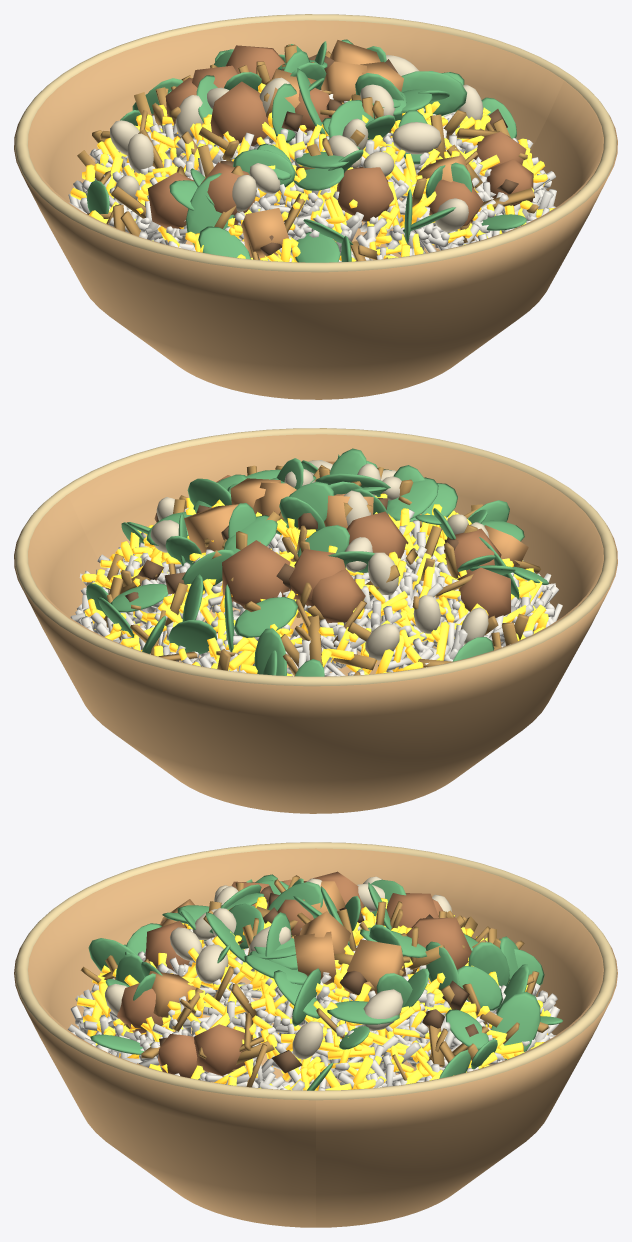
The model's file is Mughal_Times_Biryani.glb.
The picture shows the model from 3 angles, top to bottom: view 1: azimuth 30°, elevation 25°; view 2: azimuth 150°, elevation 25°; view 3: azimuth 270°, elevation 25°; orthographic projection.
Visible parts, largest first — view 1: Copper_Bowl, Mint_Coriander_55, Meat_Pieces_11, Gold_Rim, Saffron_Rice_520, Basmati_Rice_1500, Cashews_16, Fried_Onion_Pieces_90, Vegetable_Pieces_6, Whole_Spices_16; view 2: Copper_Bowl, Mint_Coriander_55, Saffron_Rice_520, Gold_Rim, Basmati_Rice_1500, Meat_Pieces_11, Fried_Onion_Pieces_90, Cashews_16, Vegetable_Pieces_6, Whole_Spices_16; view 3: Copper_Bowl, Mint_Coriander_55, Saffron_Rice_520, Gold_Rim, Basmati_Rice_1500, Meat_Pieces_11, Fried_Onion_Pieces_90, Cashews_16, Vegetable_Pieces_6, Whole_Spices_16.
Boxes of the visible parts, <box> form: Copper_Bowl: <box>14,20,617,399</box>; Mint_Coriander_55: <box>86,39,527,262</box>; Meat_Pieces_11: <box>147,45,533,229</box>; Gold_Rim: <box>15,14,616,272</box>; Saffron_Rice_520: <box>70,83,554,262</box>; Basmati_Rice_1500: <box>68,90,556,261</box>; Cashews_16: <box>110,55,483,232</box>; Fried_Onion_Pieces_90: <box>77,44,538,261</box>; Vegetable_Pieces_6: <box>241,40,473,258</box>; Whole_Spices_16: <box>220,54,518,256</box>; Copper_Bowl: <box>14,434,617,813</box>; Mint_Coriander_55: <box>86,448,548,676</box>; Saffron_Rice_520: <box>81,493,548,675</box>; Gold_Rim: <box>15,428,616,686</box>; Basmati_Rice_1500: <box>70,507,562,676</box>; Meat_Pieces_11: <box>216,475,510,622</box>; Fried_Onion_Pieces_90: <box>104,465,540,676</box>; Cashews_16: <box>150,460,489,660</box>; Vegetable_Pieces_6: <box>184,461,528,567</box>; Whole_Spices_16: <box>125,498,458,601</box>; Copper_Bowl: <box>14,848,617,1227</box>; Mint_Coriander_55: <box>88,874,563,1090</box>; Saffron_Rice_520: <box>77,896,550,1090</box>; Gold_Rim: <box>15,842,616,1100</box>; Basmati_Rice_1500: <box>68,901,559,1090</box>; Meat_Pieces_11: <box>117,871,471,1078</box>; Fried_Onion_Pieces_90: <box>80,875,548,1087</box>; Cashews_16: <box>105,876,452,1059</box>; Vegetable_Pieces_6: <box>149,881,406,1017</box>; Whole_Spices_16: <box>159,885,478,1073</box>.
Bounding box in the file's own units: 3.04 × 1.57 × 3.04.
